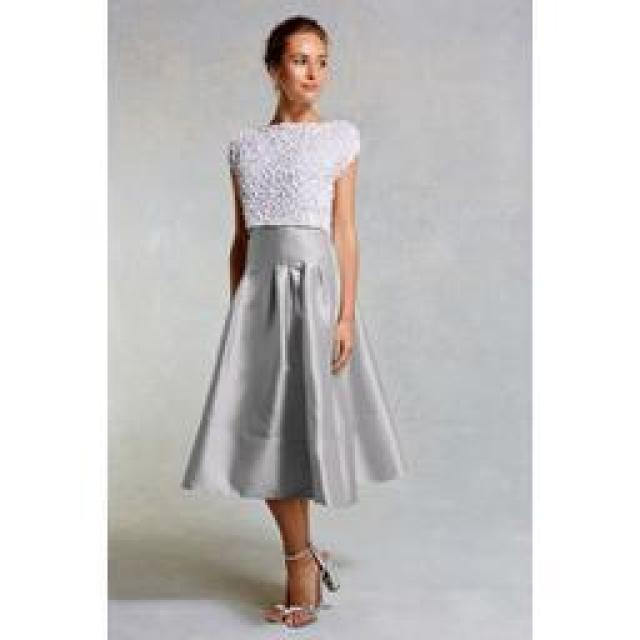Tshirt: (228, 116, 360, 229)
skirt: (183, 225, 405, 513)
